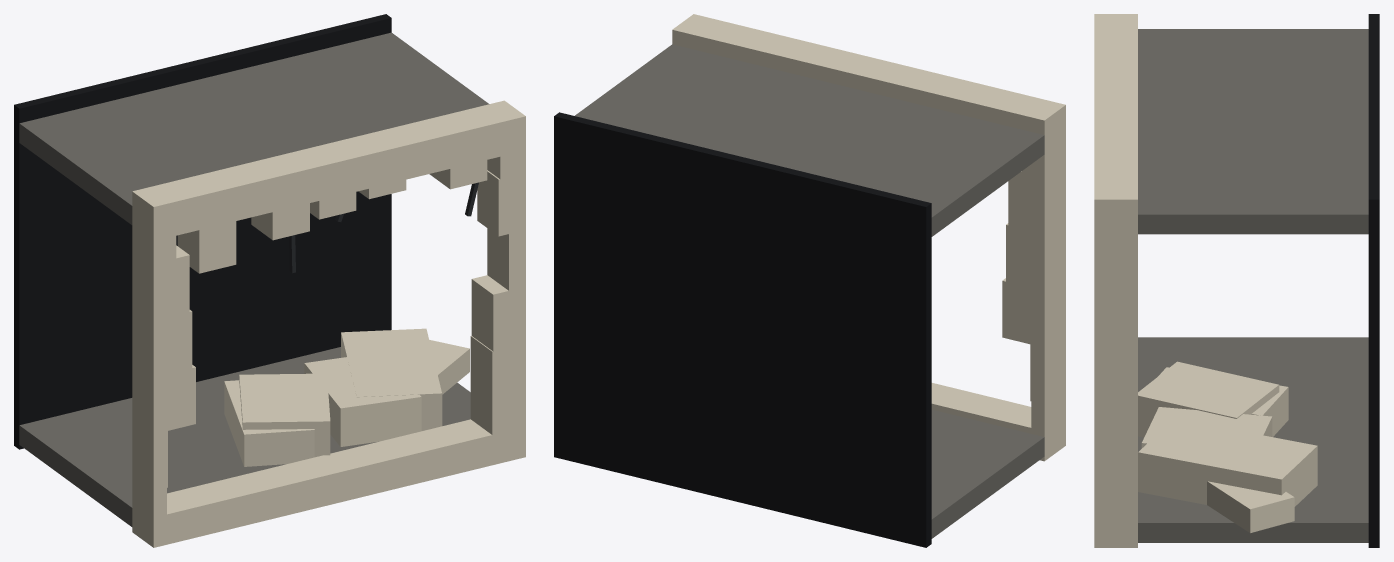
The model's file is co_hole.glb.
3 renders of one model, left to right at view 1: azimuth 30°, elevation 25°; view 2: azimuth 150°, elevation 25°; view 3: azimuth 270°, elevation 25°, orthographic. The views are drawn at different scales.
Parts seen in each view (by area): view 1: city_co_hole; view 2: city_co_hole; view 3: city_co_hole.
Boxes of the visible parts, x1=… form: city_co_hole: x1=14, y1=14, x2=525, y2=547; city_co_hole: x1=554, y1=14, x2=1065, y2=547; city_co_hole: x1=1094, y1=14, x2=1379, y2=547.
Size of the model in its own units: 4.22 by 3.5 by 2.6.
2 materials, 2 textured.
